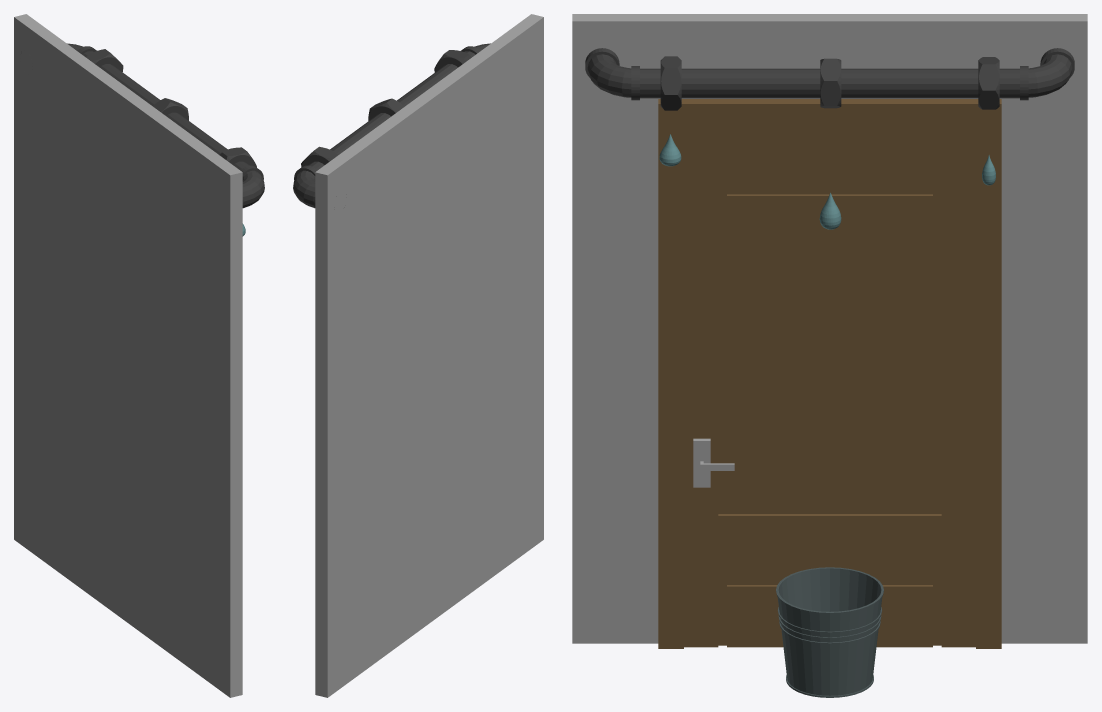
File: watergame.fbx
3 views of the same model, side by side, from view 1: azimuth 30°, elevation 25°; view 2: azimuth 150°, elevation 25°; view 3: azimuth 270°, elevation 25° (orthographic). The views are drawn at different scales.
Visible parts, largest first — view 1: wall, pipe, nut2, nut3, nut1; view 2: wall, pipe, nut1, nut2, nut3; view 3: door7, wall, pipe, bucket, nut1, nut3, nut2, doorhandle4.
Part boxes in pixels (left/top/right/bottom): wall: left=14, top=14, right=242, bottom=697; pipe: left=67, top=43, right=264, bottom=208; nut2: left=153, top=98, right=188, bottom=120; nut3: left=86, top=49, right=123, bottom=71; nut1: left=219, top=147, right=256, bottom=167; wall: left=315, top=14, right=543, bottom=697; pipe: left=293, top=43, right=490, bottom=208; nut1: left=434, top=50, right=471, bottom=72; nut2: left=368, top=98, right=404, bottom=120; nut3: left=301, top=146, right=338, bottom=167; door7: left=658, top=99, right=1001, bottom=648; wall: left=572, top=14, right=1087, bottom=643; pipe: left=587, top=54, right=1072, bottom=98; bucket: left=776, top=567, right=883, bottom=697; nut1: left=660, top=56, right=681, bottom=110; nut3: left=978, top=57, right=999, bottom=109; nut2: left=820, top=58, right=841, bottom=108; doorhandle4: left=693, top=438, right=734, bottom=487.
Bounding box in the file's own units: 0.4517 × 2 × 1.5.
